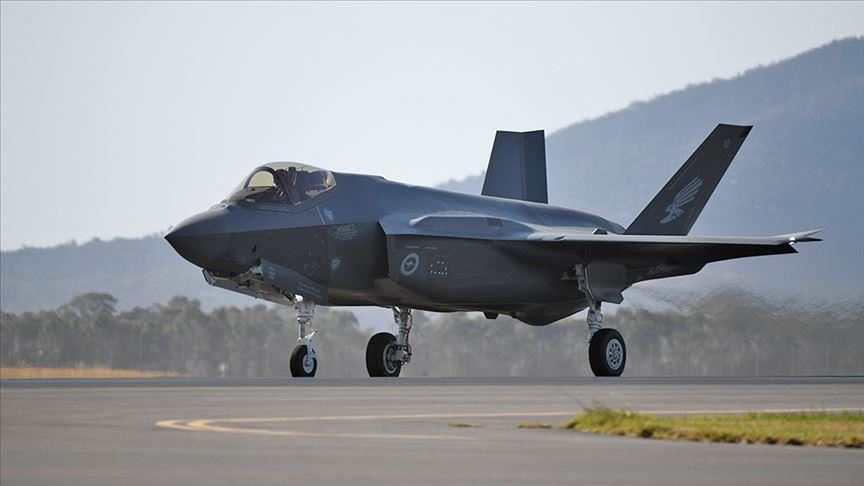F-35 Lightning: (127, 114, 834, 388)
